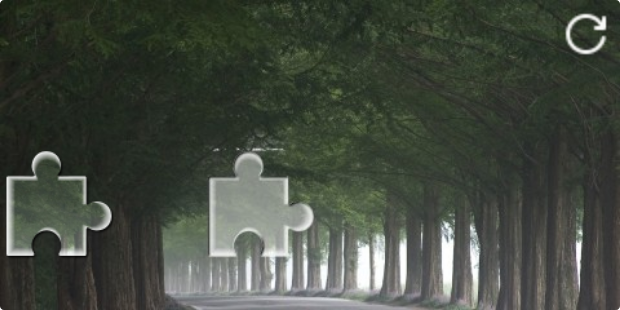target: (209, 152, 314, 256)
